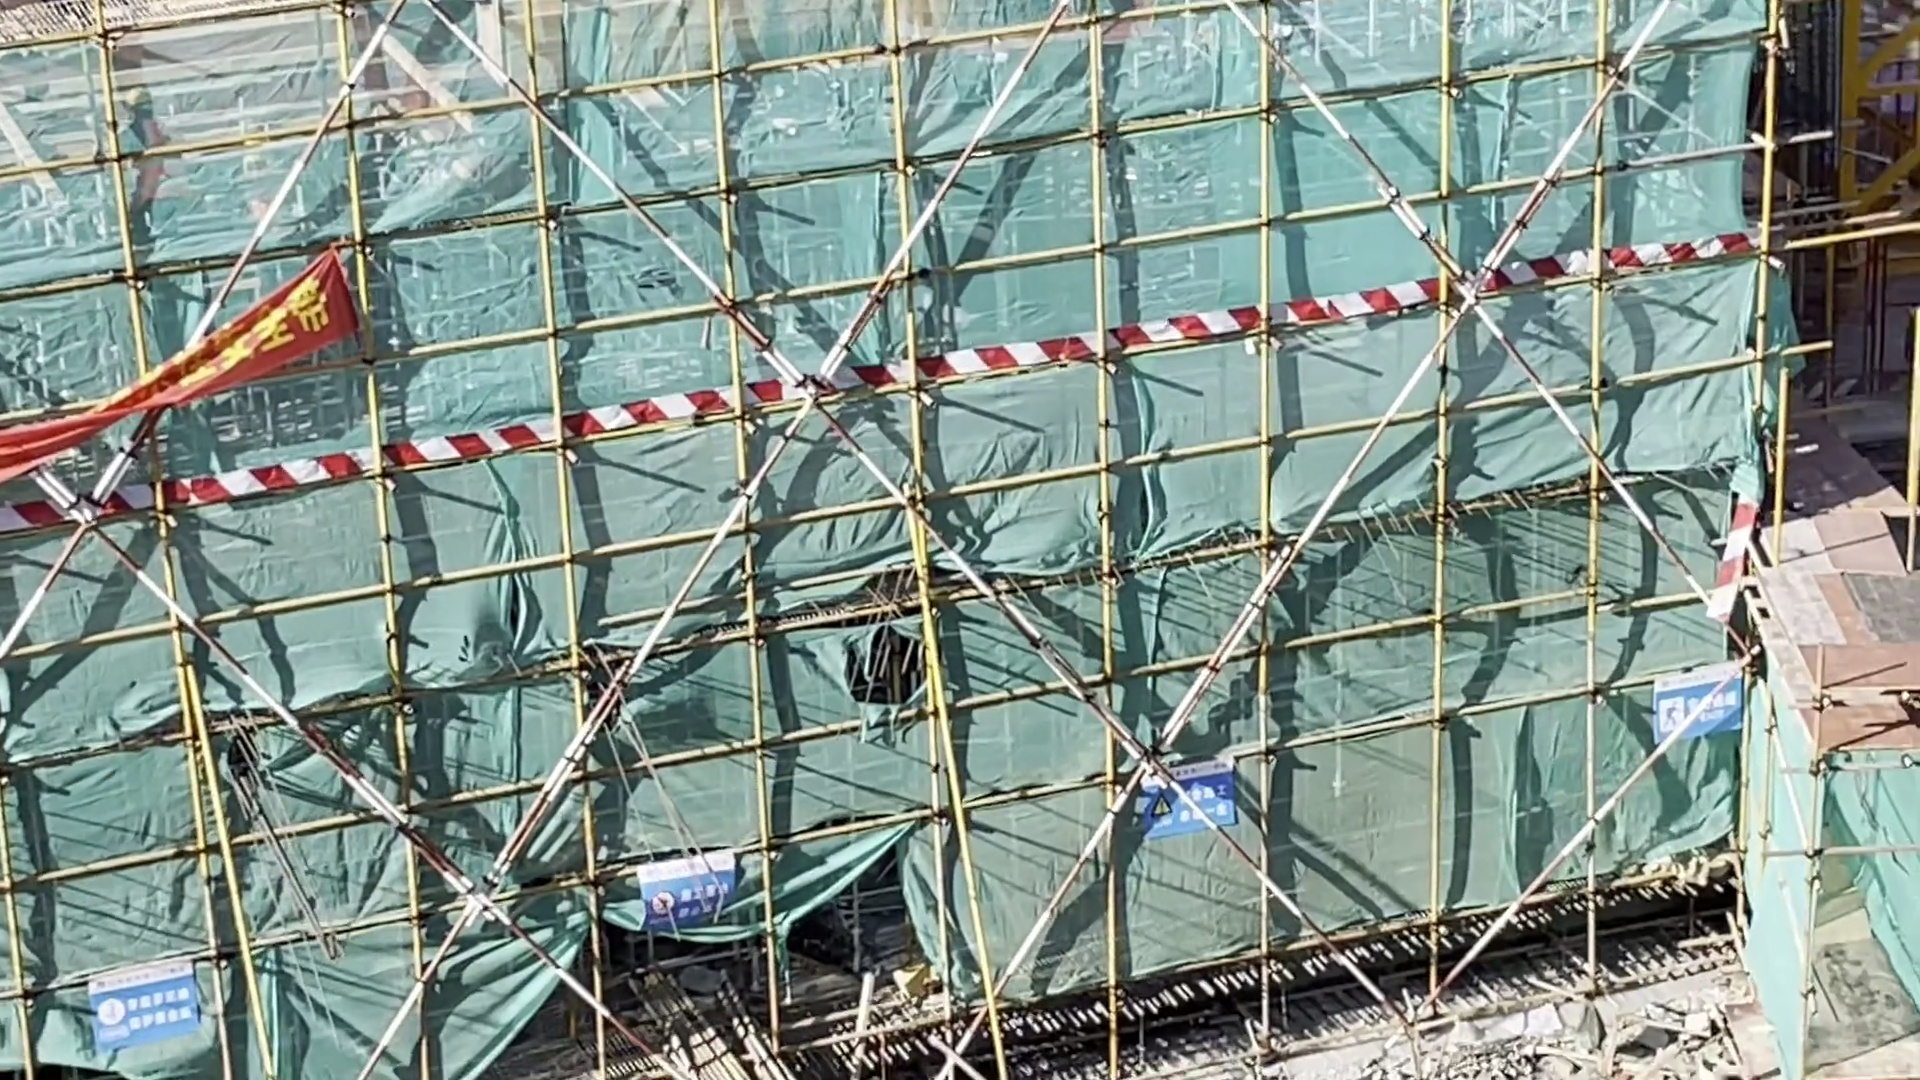slogan: (1, 194, 396, 480), (1631, 645, 1768, 764), (76, 949, 211, 1044), (1124, 742, 1244, 837), (637, 843, 742, 938)
